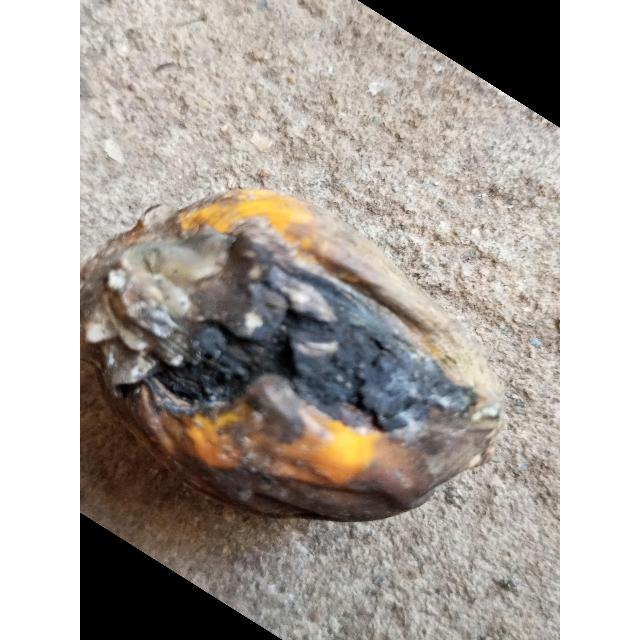damaged: (80, 188, 505, 525)
